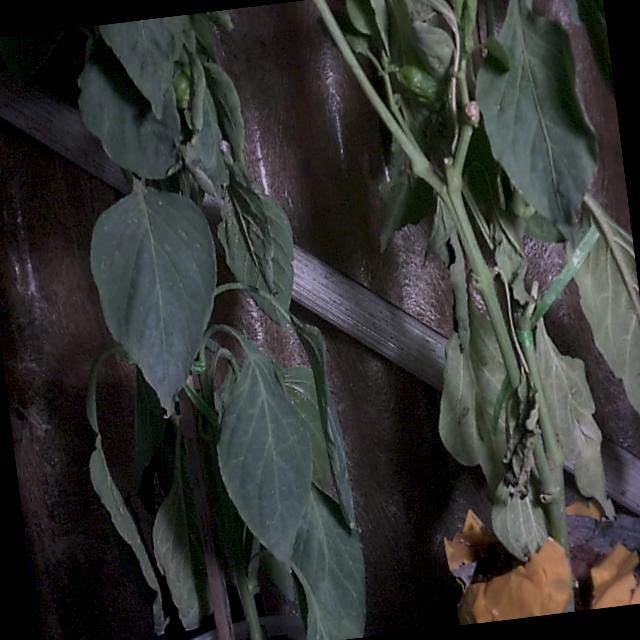Leaf: (91, 182, 216, 412), (476, 0, 596, 236), (217, 330, 312, 562), (79, 38, 181, 179), (575, 199, 639, 415), (292, 488, 365, 639), (99, 15, 183, 119), (0, 30, 64, 83)
